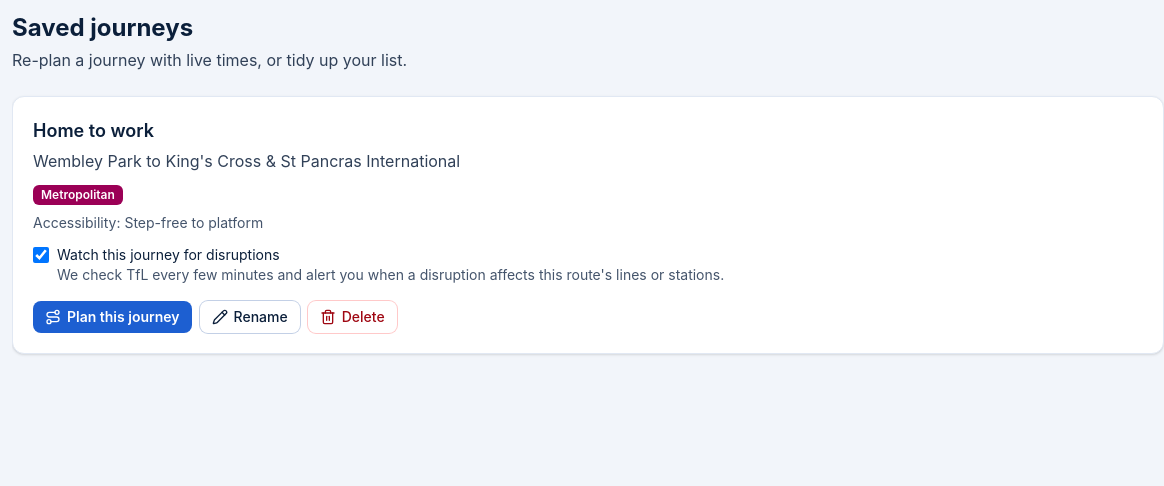
Test: SavedJourneysPage › renames a journey and keeps the card named while editing
This screenshot has width=1164, height=486.
Click the button with aria-label "Rename Home to work" at (250,317), box [200, 301, 300, 333]
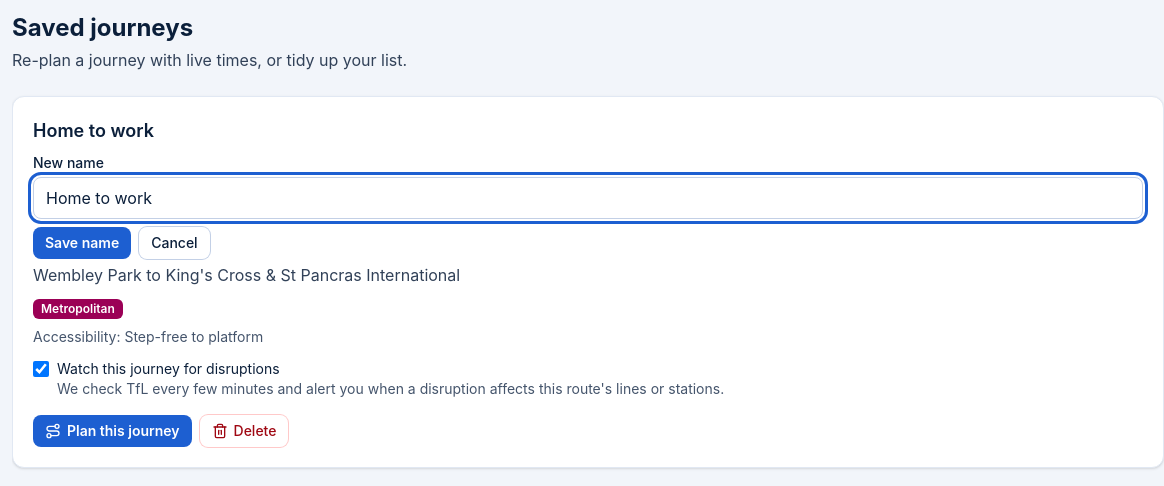
Replace the text in the field labelled "New name" with "Office" at (588,198), box [33, 177, 1143, 219]
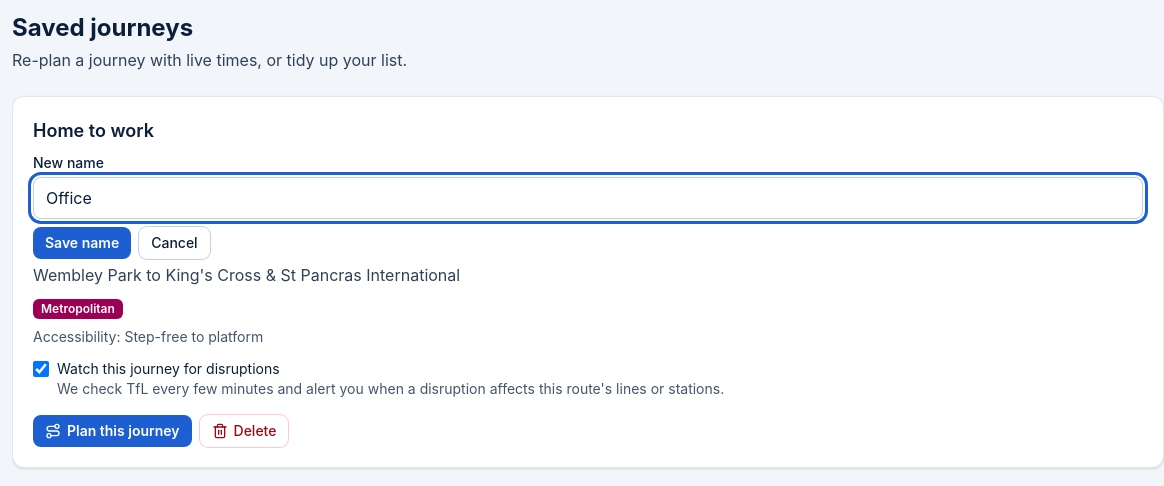
Click the button "Save name" at (82,243), box [33, 227, 131, 259]
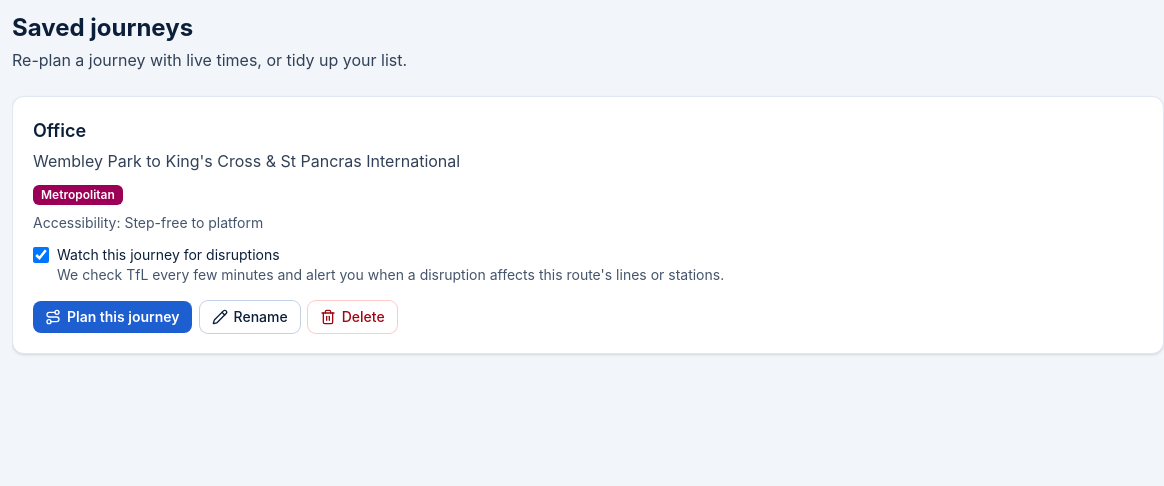
Result: the element "Office" is shown at [12, 96, 1163, 354]
